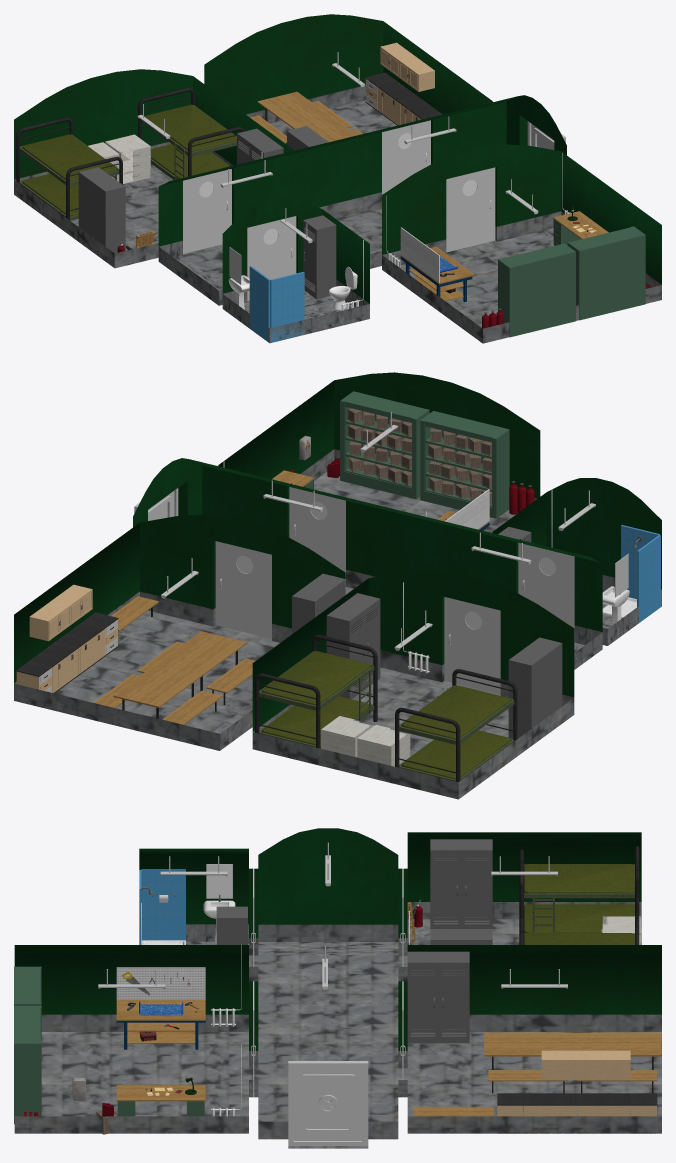
File: bunker_scene.fbx
3 views of the same model, one above another, from view 1: azimuth 30°, elevation 25°; view 2: azimuth 150°, elevation 25°; view 3: azimuth 270°, elevation 25° (orthographic). The views are drawn at different scales.
Visible parts, largest first — view 1: bunker, rack.001, rack.002, door.002, door, door.001, workbench, door.003, locker.001, mattress_2.001, blue_tile.001, mattress_2 (+16 smaller); view 2: bunker, rack.001, door.003, door, rack.002, door.001, door.002, bed.001, bed, mattress_2.001, mattress_2, locker (+24 smaller); view 3: bunker, bunker_door, workbench, mattress_2, rack.002, blue_tile, mattress_1, locker_door.005, locker_door.006, locker_door, locker_door.001, table (+24 smaller).
Boxes of the visible parts, bbox=[...] form: bunker: bbox=[14, 14, 661, 343]; rack.001: bbox=[498, 243, 575, 337]; rack.002: bbox=[567, 226, 645, 320]; door.002: bbox=[446, 167, 495, 252]; door: bbox=[183, 169, 231, 253]; door.001: bbox=[247, 216, 296, 300]; workbench: bbox=[400, 227, 474, 301]; door.003: bbox=[382, 120, 430, 194]; locker.001: bbox=[92, 177, 125, 253]; mattress_2.001: bbox=[144, 105, 236, 151]; blue_tile.001: bbox=[270, 272, 304, 342]; mattress_2: bbox=[22, 134, 116, 181]; bunker: bbox=[14, 372, 661, 799]; rack.001: bbox=[420, 411, 509, 518]; door.003: bbox=[215, 541, 271, 638]; door: bbox=[444, 597, 500, 694]; rack.002: bbox=[340, 391, 429, 499]; door.001: bbox=[518, 542, 574, 640]; door.002: bbox=[289, 487, 345, 584]; bed.001: bbox=[255, 635, 377, 748]; bed: bbox=[395, 669, 517, 782]; mattress_2.001: bbox=[262, 651, 370, 705]; mattress_2: bbox=[402, 685, 510, 739]; locker: bbox=[508, 649, 546, 738]; bunker: bbox=[14, 828, 661, 1148]; bunker_door: bbox=[288, 1061, 368, 1145]; workbench: bbox=[116, 967, 205, 1049]; mattress_2: bbox=[524, 864, 634, 893]; rack.002: bbox=[14, 1006, 41, 1124]; blue_tile: bbox=[141, 869, 185, 940]; mattress_1: bbox=[524, 904, 634, 933]; locker_door.005: bbox=[439, 963, 468, 1042]; locker_door.006: bbox=[408, 963, 437, 1042]; locker_door: bbox=[462, 851, 491, 928]; locker_door.001: bbox=[431, 851, 460, 928]; table: bbox=[484, 1032, 572, 1081].
Bounding box in the file's own units: 1220 × 303 × 1457.
